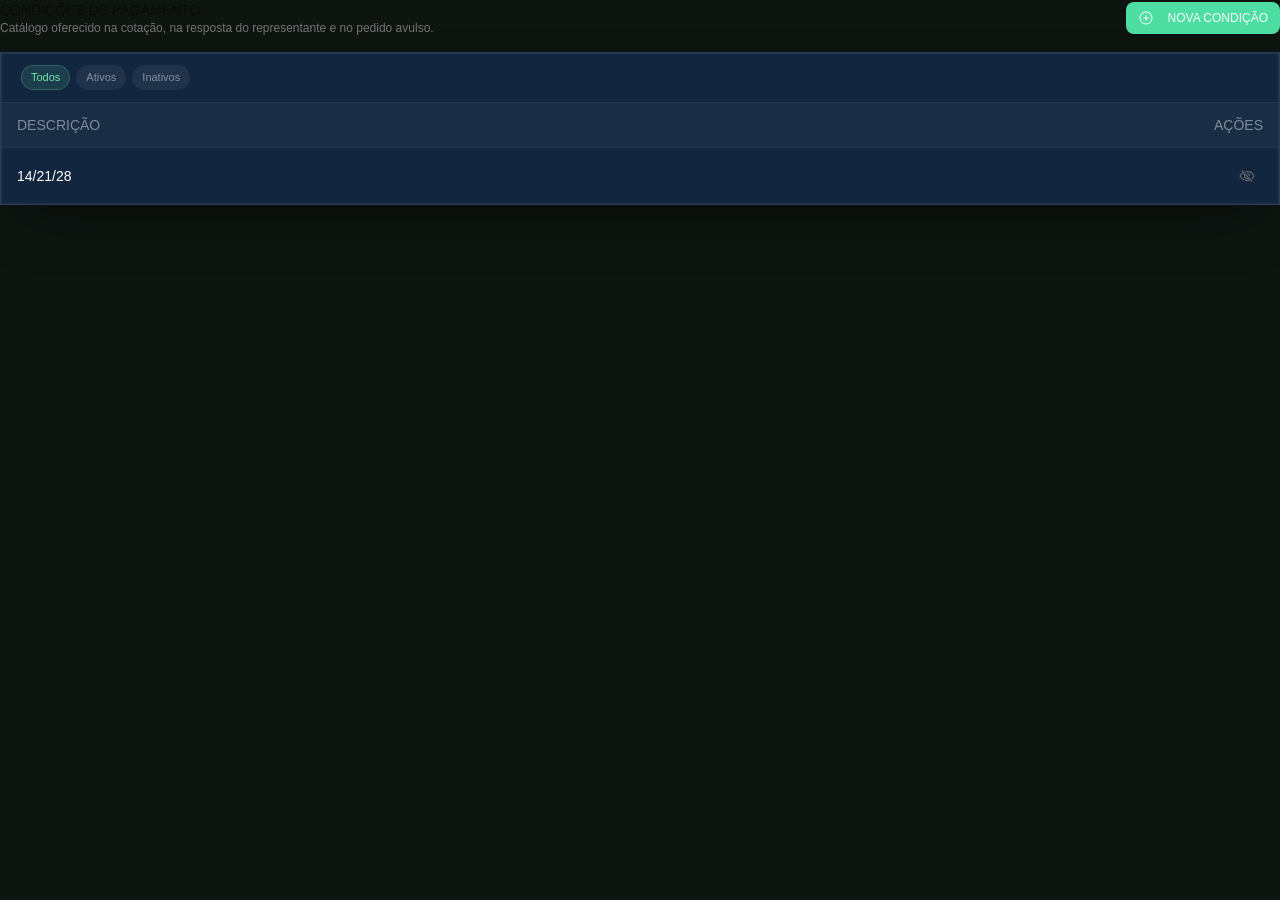
cadastra uma nova condição de pagamento
expect the text "14/21/28" is shown: met, box top-left (1, 147), bottom-right (751, 204)
Click the button "Nova Condição". click: (1203, 18)
box: top-left (1126, 2), bottom-right (1279, 34)
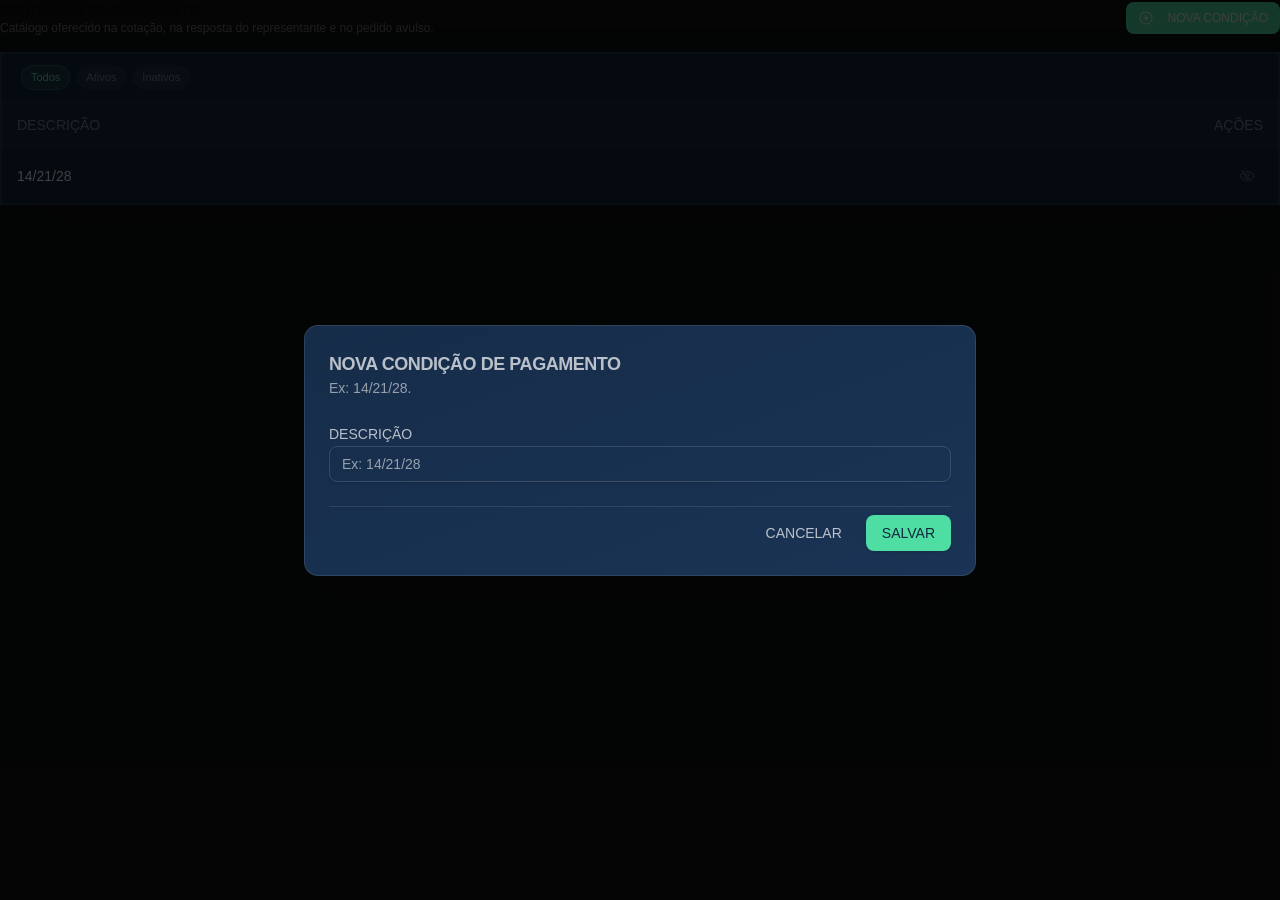
Type "30 dias" into the field labelled "Descrição". click: (640, 464)
box: top-left (329, 446), bottom-right (951, 482)
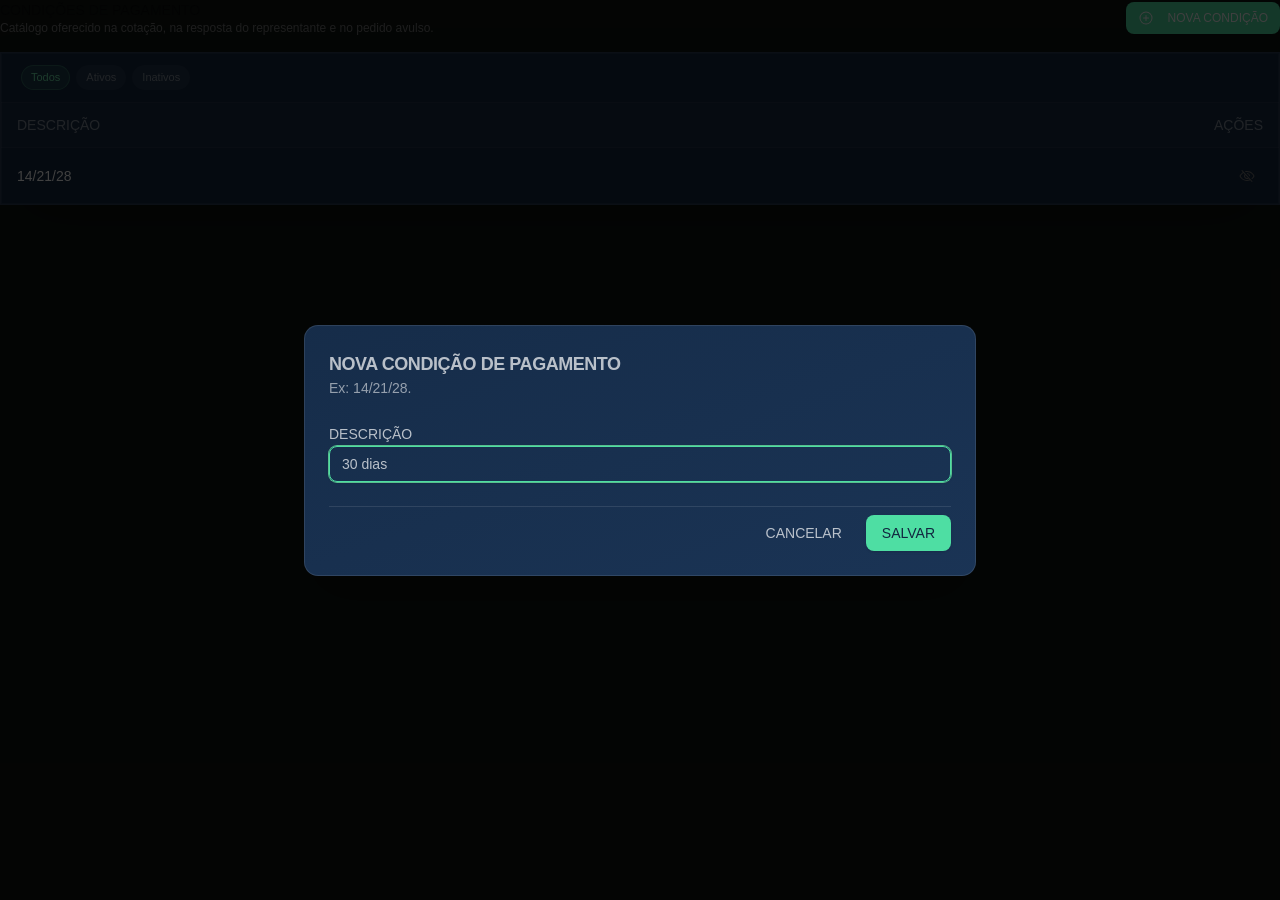
Click the button "Salvar". click: (908, 532)
box: top-left (866, 514), bottom-right (951, 550)
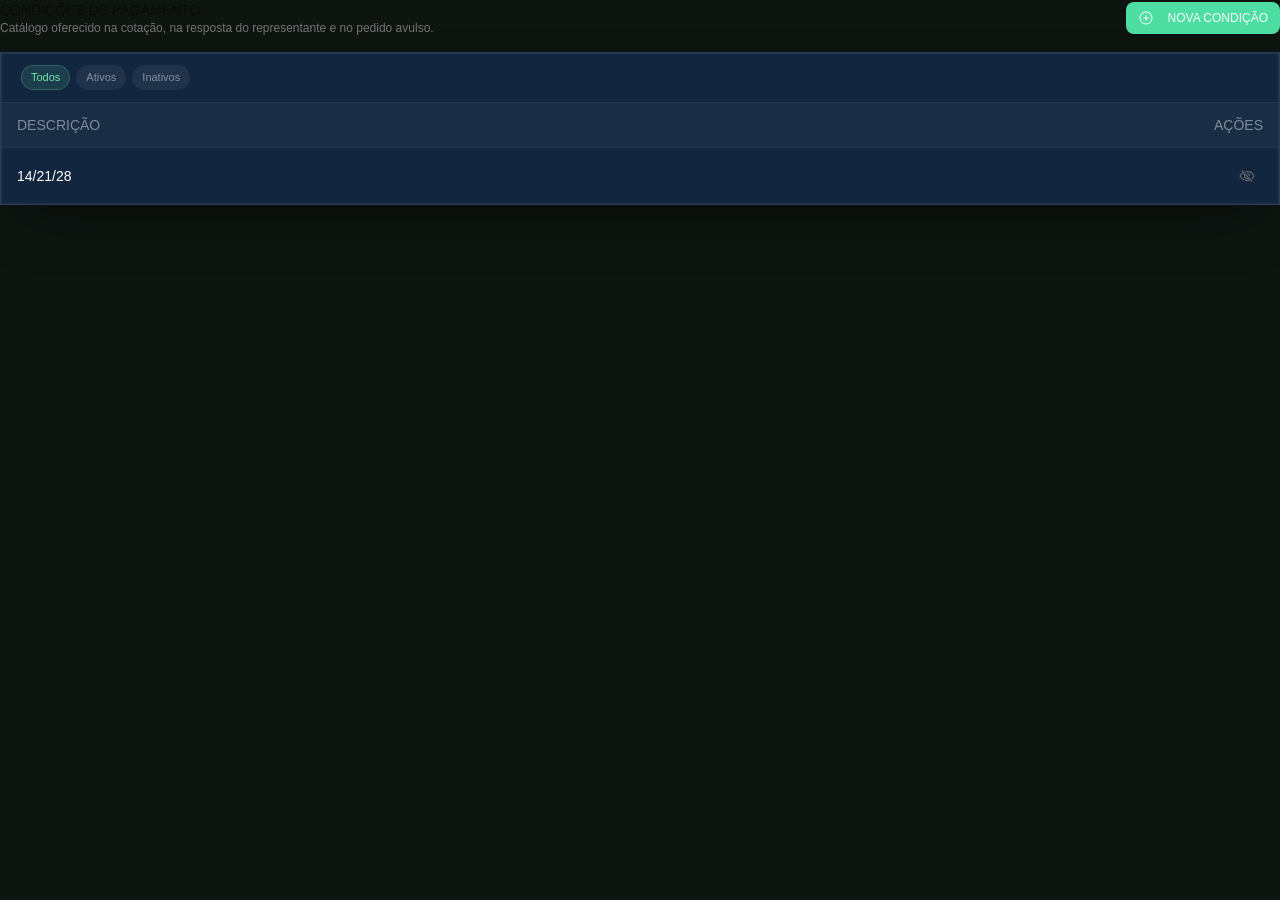
expect the dialog is gone: met
